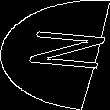N_E: (6, 32, 104, 78)
